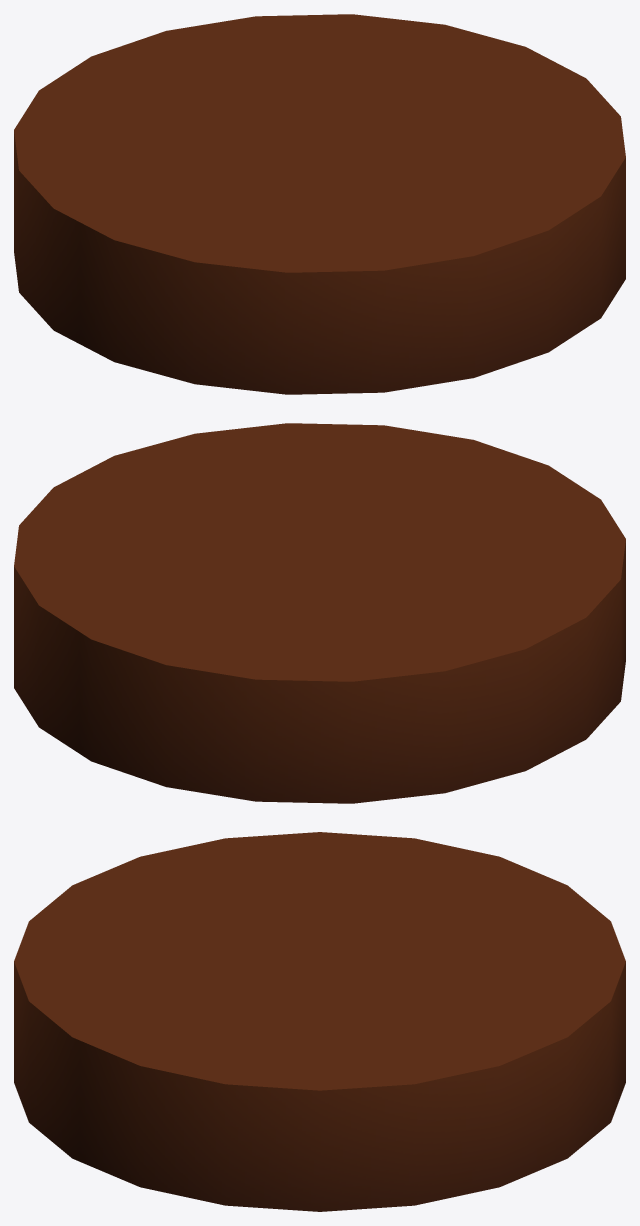
The model's file is Alet_Elek.fbx.
3 views of the same model, one above another, from view 1: azimuth 30°, elevation 25°; view 2: azimuth 150°, elevation 25°; view 3: azimuth 270°, elevation 25° (orthographic).
Parts seen in each view (by area): view 1: Alet_Elek_Model; view 2: Alet_Elek_Model; view 3: Alet_Elek_Model.
Boxes of the visible parts, x1,y1,x2,y2 form: Alet_Elek_Model: (14,14,625,394); Alet_Elek_Model: (14,423,625,803); Alet_Elek_Model: (14,832,625,1211).
Bounding box in the file's own units: 0.272 × 0.0595 × 0.272.
